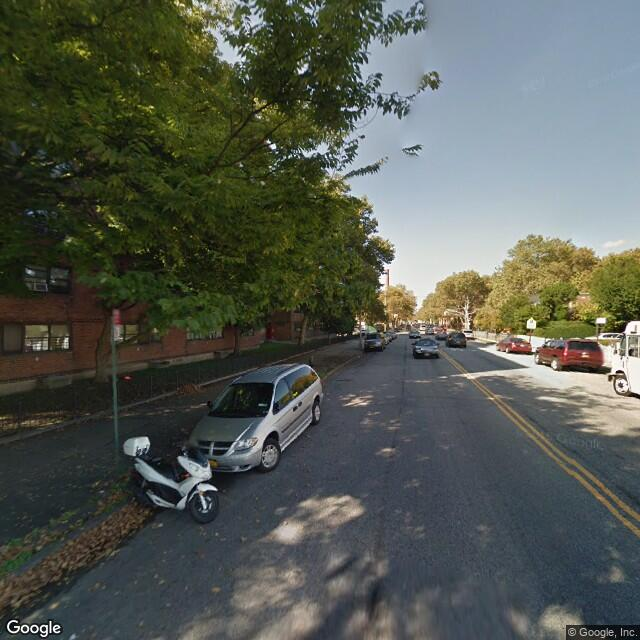litter: (36, 493, 152, 622), (117, 371, 139, 386)
